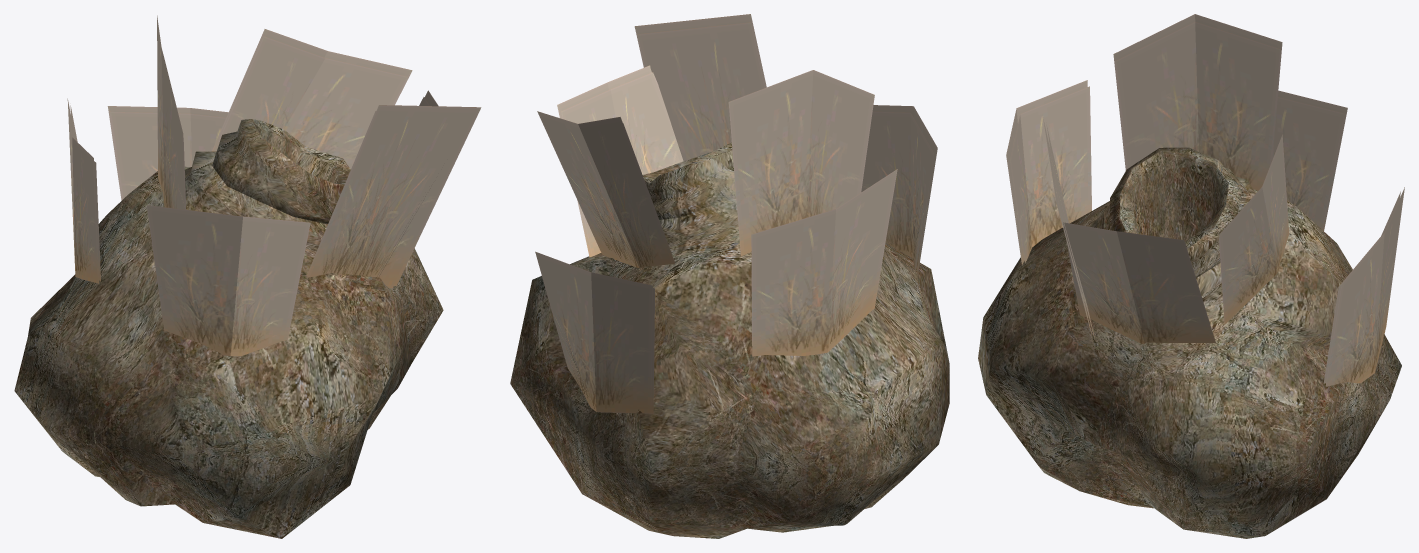
File: poi_all_lair_mound_large_l0.fbx
The picture shows the model from 3 angles, left to right: view 1: azimuth 30°, elevation 25°; view 2: azimuth 150°, elevation 25°; view 3: azimuth 270°, elevation 25°; orthographic projection. The views are drawn at different scales.
Visible parts, largest first — view 1: mesh_node; view 2: mesh_node; view 3: mesh_node.
Part boxes in pixels (<box>): mesh_node: <box>14,15,481,538</box>; mesh_node: <box>510,14,949,538</box>; mesh_node: <box>978,14,1404,538</box>.
Bounding box in the file's own units: 4.94 × 5.7 × 4.77.
